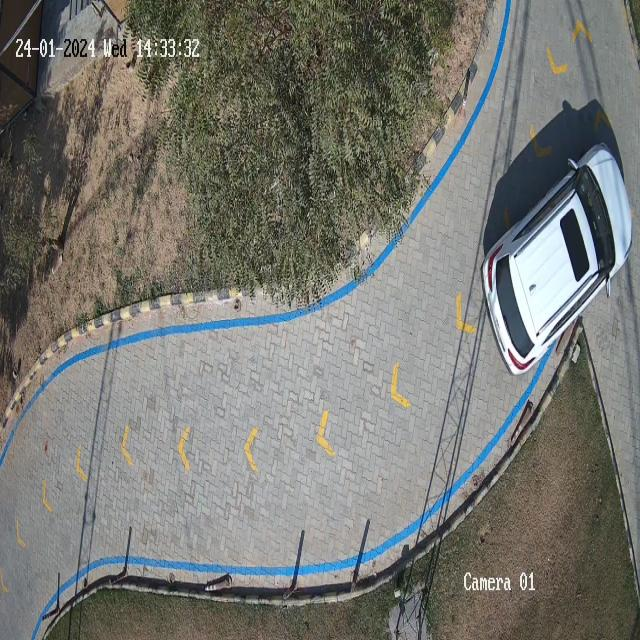car: (480, 139, 634, 373)
